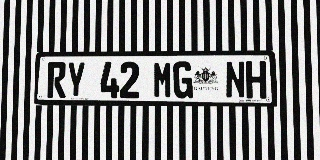2: (120, 62, 139, 98)
4: (100, 62, 119, 98)
G: (173, 61, 193, 98)
H: (246, 61, 266, 99)
M: (153, 61, 172, 98)
N: (225, 61, 246, 99)
R: (47, 62, 66, 98)
Y: (66, 62, 86, 98)
